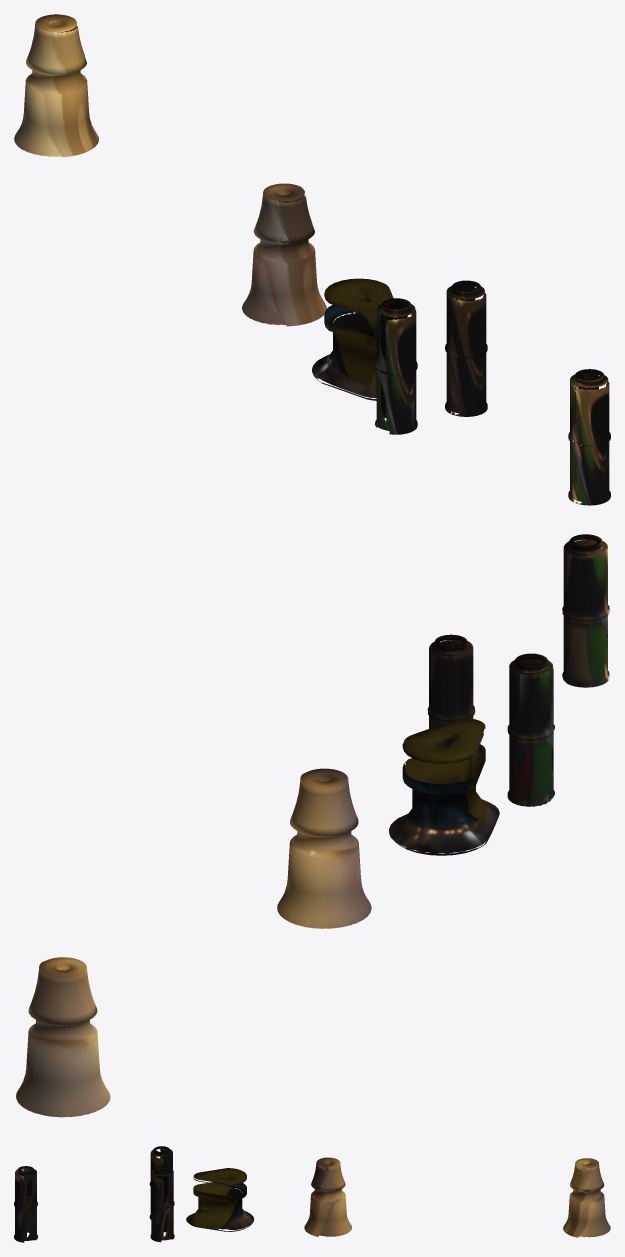
The picture shows the model from 3 angles, top to bottom: view 1: azimuth 30°, elevation 25°; view 2: azimuth 150°, elevation 25°; view 3: azimuth 270°, elevation 25°; orthographic projection. The views are drawn at different scales.
Parts seen in each view (by area): view 1: layer1a; view 2: layer1a; view 3: layer1a.
Boxes of the visible parts, x1,y1,x2,y2 form: layer1a: (14, 14, 610, 505); layer1a: (16, 534, 609, 1117); layer1a: (14, 1146, 610, 1242).
Bounding box in the file's own units: 2.86 × 3.01 × 23.73.
1 material, 1 textured.
